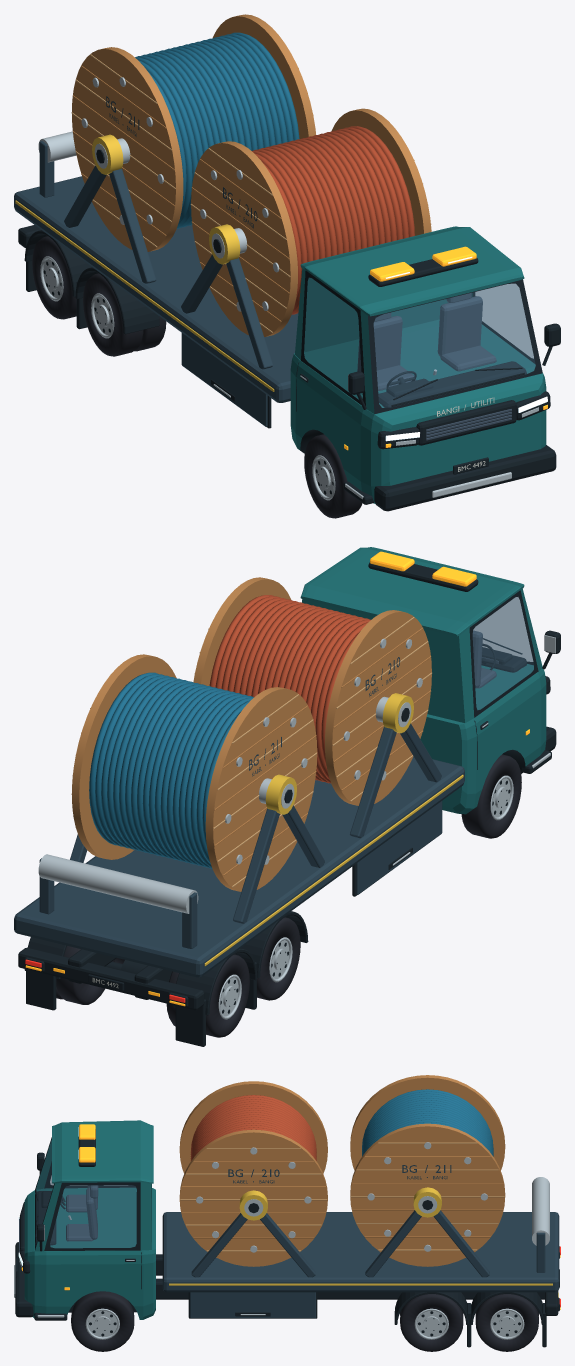
3 views of the same model, one above another, from view 1: azimuth 30°, elevation 25°; view 2: azimuth 150°, elevation 25°; view 3: azimuth 270°, elevation 25° (orthographic). The views are drawn at different scales.
Visible parts, largest first — view 1: Bangi Twin Reel Tender; view 2: Bangi Twin Reel Tender; view 3: Bangi Twin Reel Tender.
Boxes of the visible parts, box(x1,y1,x2,y2) form: Bangi Twin Reel Tender: box(14, 14, 560, 518); Bangi Twin Reel Tender: box(14, 547, 560, 1046); Bangi Twin Reel Tender: box(14, 1075, 560, 1351).
Size of the model in its own units: 2.68 by 3.6 by 8.11.
